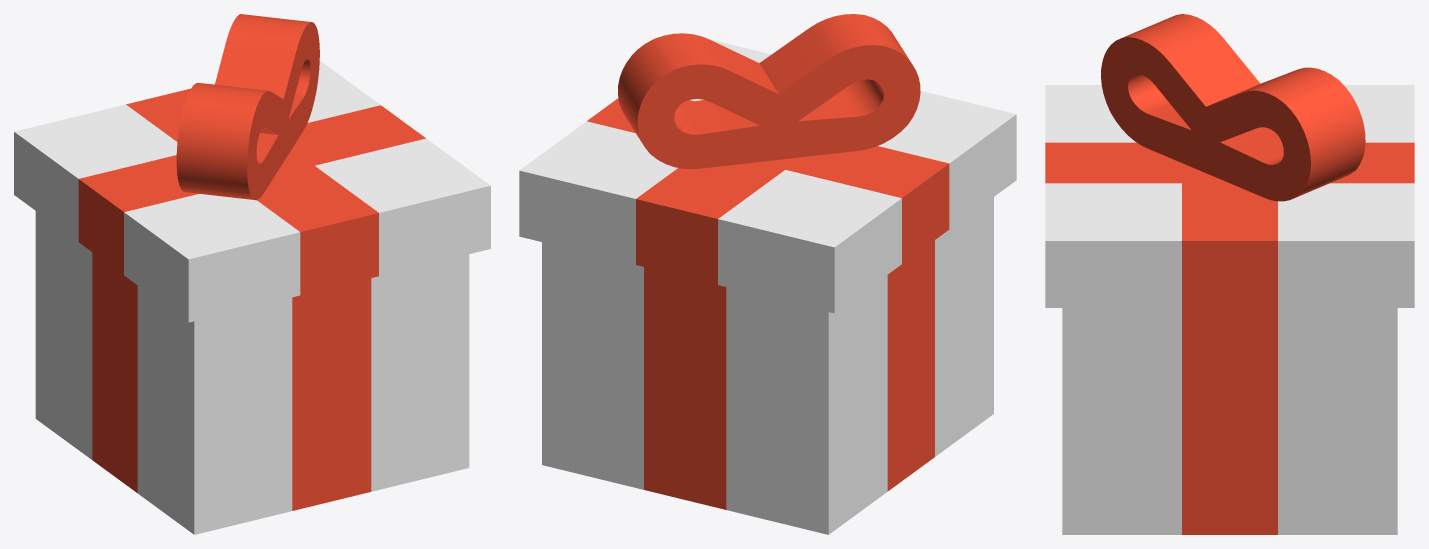
File: present.fbx
3 renders of one model, left to right at view 1: azimuth 30°, elevation 25°; view 2: azimuth 150°, elevation 25°; view 3: azimuth 270°, elevation 25°, orthographic. The views are drawn at different scales.
Visible parts, largest first — view 1: present, lid; view 2: present, lid; view 3: lid, present.
Part boxes in pixels (x1=…): present: x1=35, y1=211, x2=469, y2=534; lid: x1=14, y1=14, x2=490, y2=322; present: x1=542, y1=197, x2=993, y2=534; lid: x1=519, y1=14, x2=1016, y2=313; lid: x1=1045, y1=14, x2=1414, y2=307; present: x1=1062, y1=308, x2=1397, y2=534.
Size of the model in its own units: 3.73 by 4.54 by 3.73.
